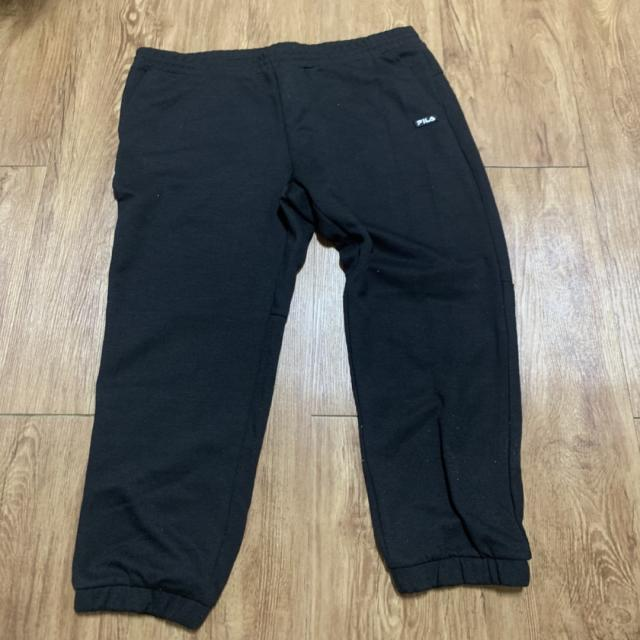long-pants: (69, 25, 541, 628)
